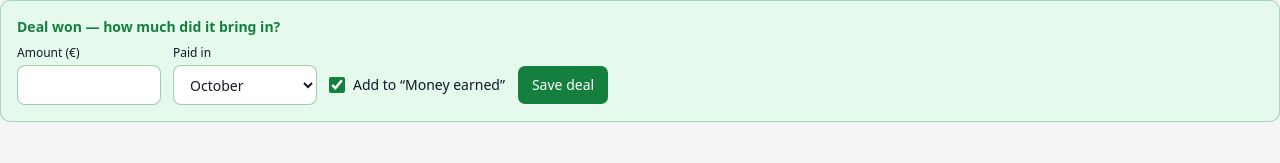
it: WonPanel › rejects an empty amount
Click the button "Save deal" at (563,85), box [517,65,609,105]
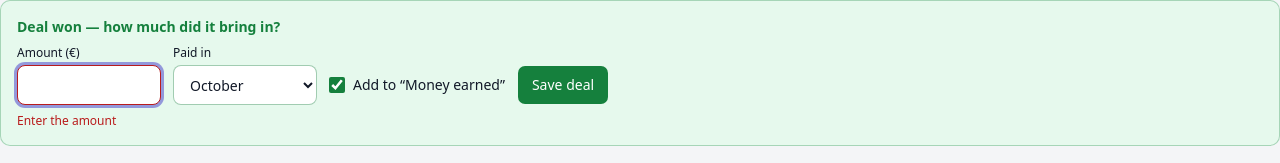
expect the text "Enter the amount" is shown: met, box [17,112,116,129]
